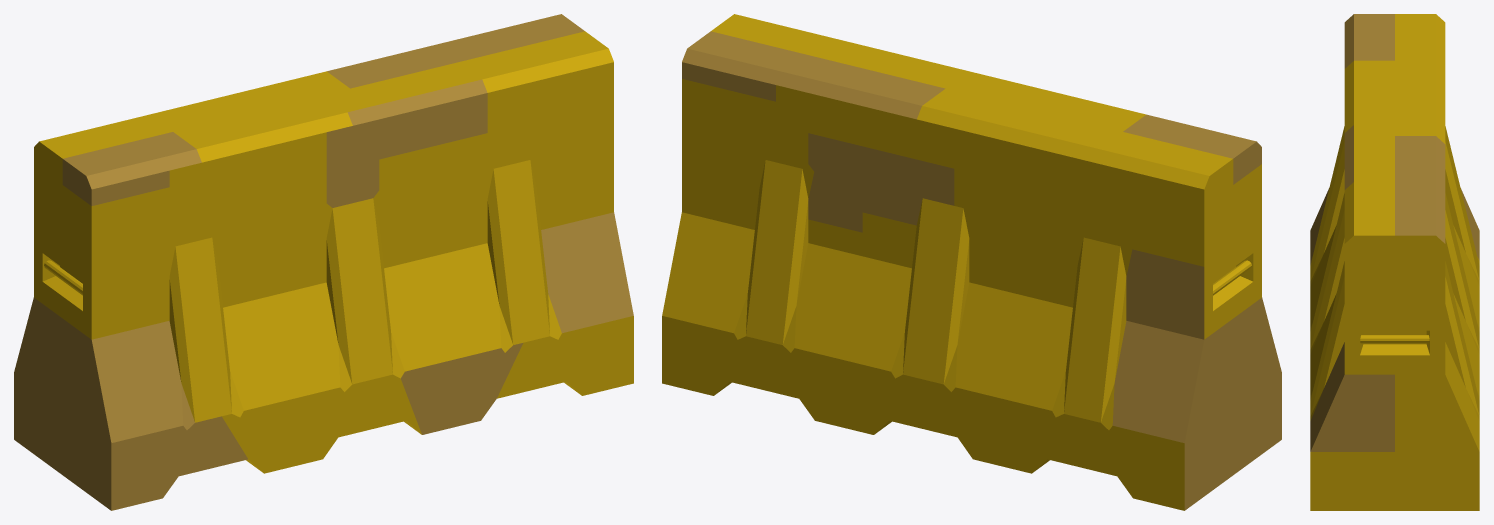
The model's file is prop_barrier.glb.
The picture shows the model from 3 angles, left to right: view 1: azimuth 30°, elevation 25°; view 2: azimuth 150°, elevation 25°; view 3: azimuth 270°, elevation 25°; orthographic projection. The views are drawn at different scales.
Parts seen in each view (by area): view 1: PlasticBarrier; view 2: PlasticBarrier; view 3: PlasticBarrier.
Boxes of the visible parts, x1,y1,x2,y2 form: PlasticBarrier: (14, 14, 633, 510); PlasticBarrier: (662, 14, 1281, 510); PlasticBarrier: (1310, 14, 1479, 510).
Bounding box in the file's own units: 1.04 × 0.5995 × 0.3339.
Materials: 1 (1 with a texture image).
